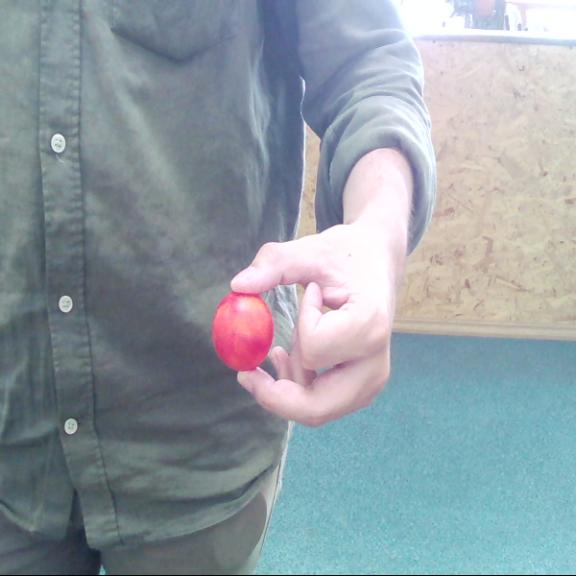ball: (214, 290, 274, 368)
